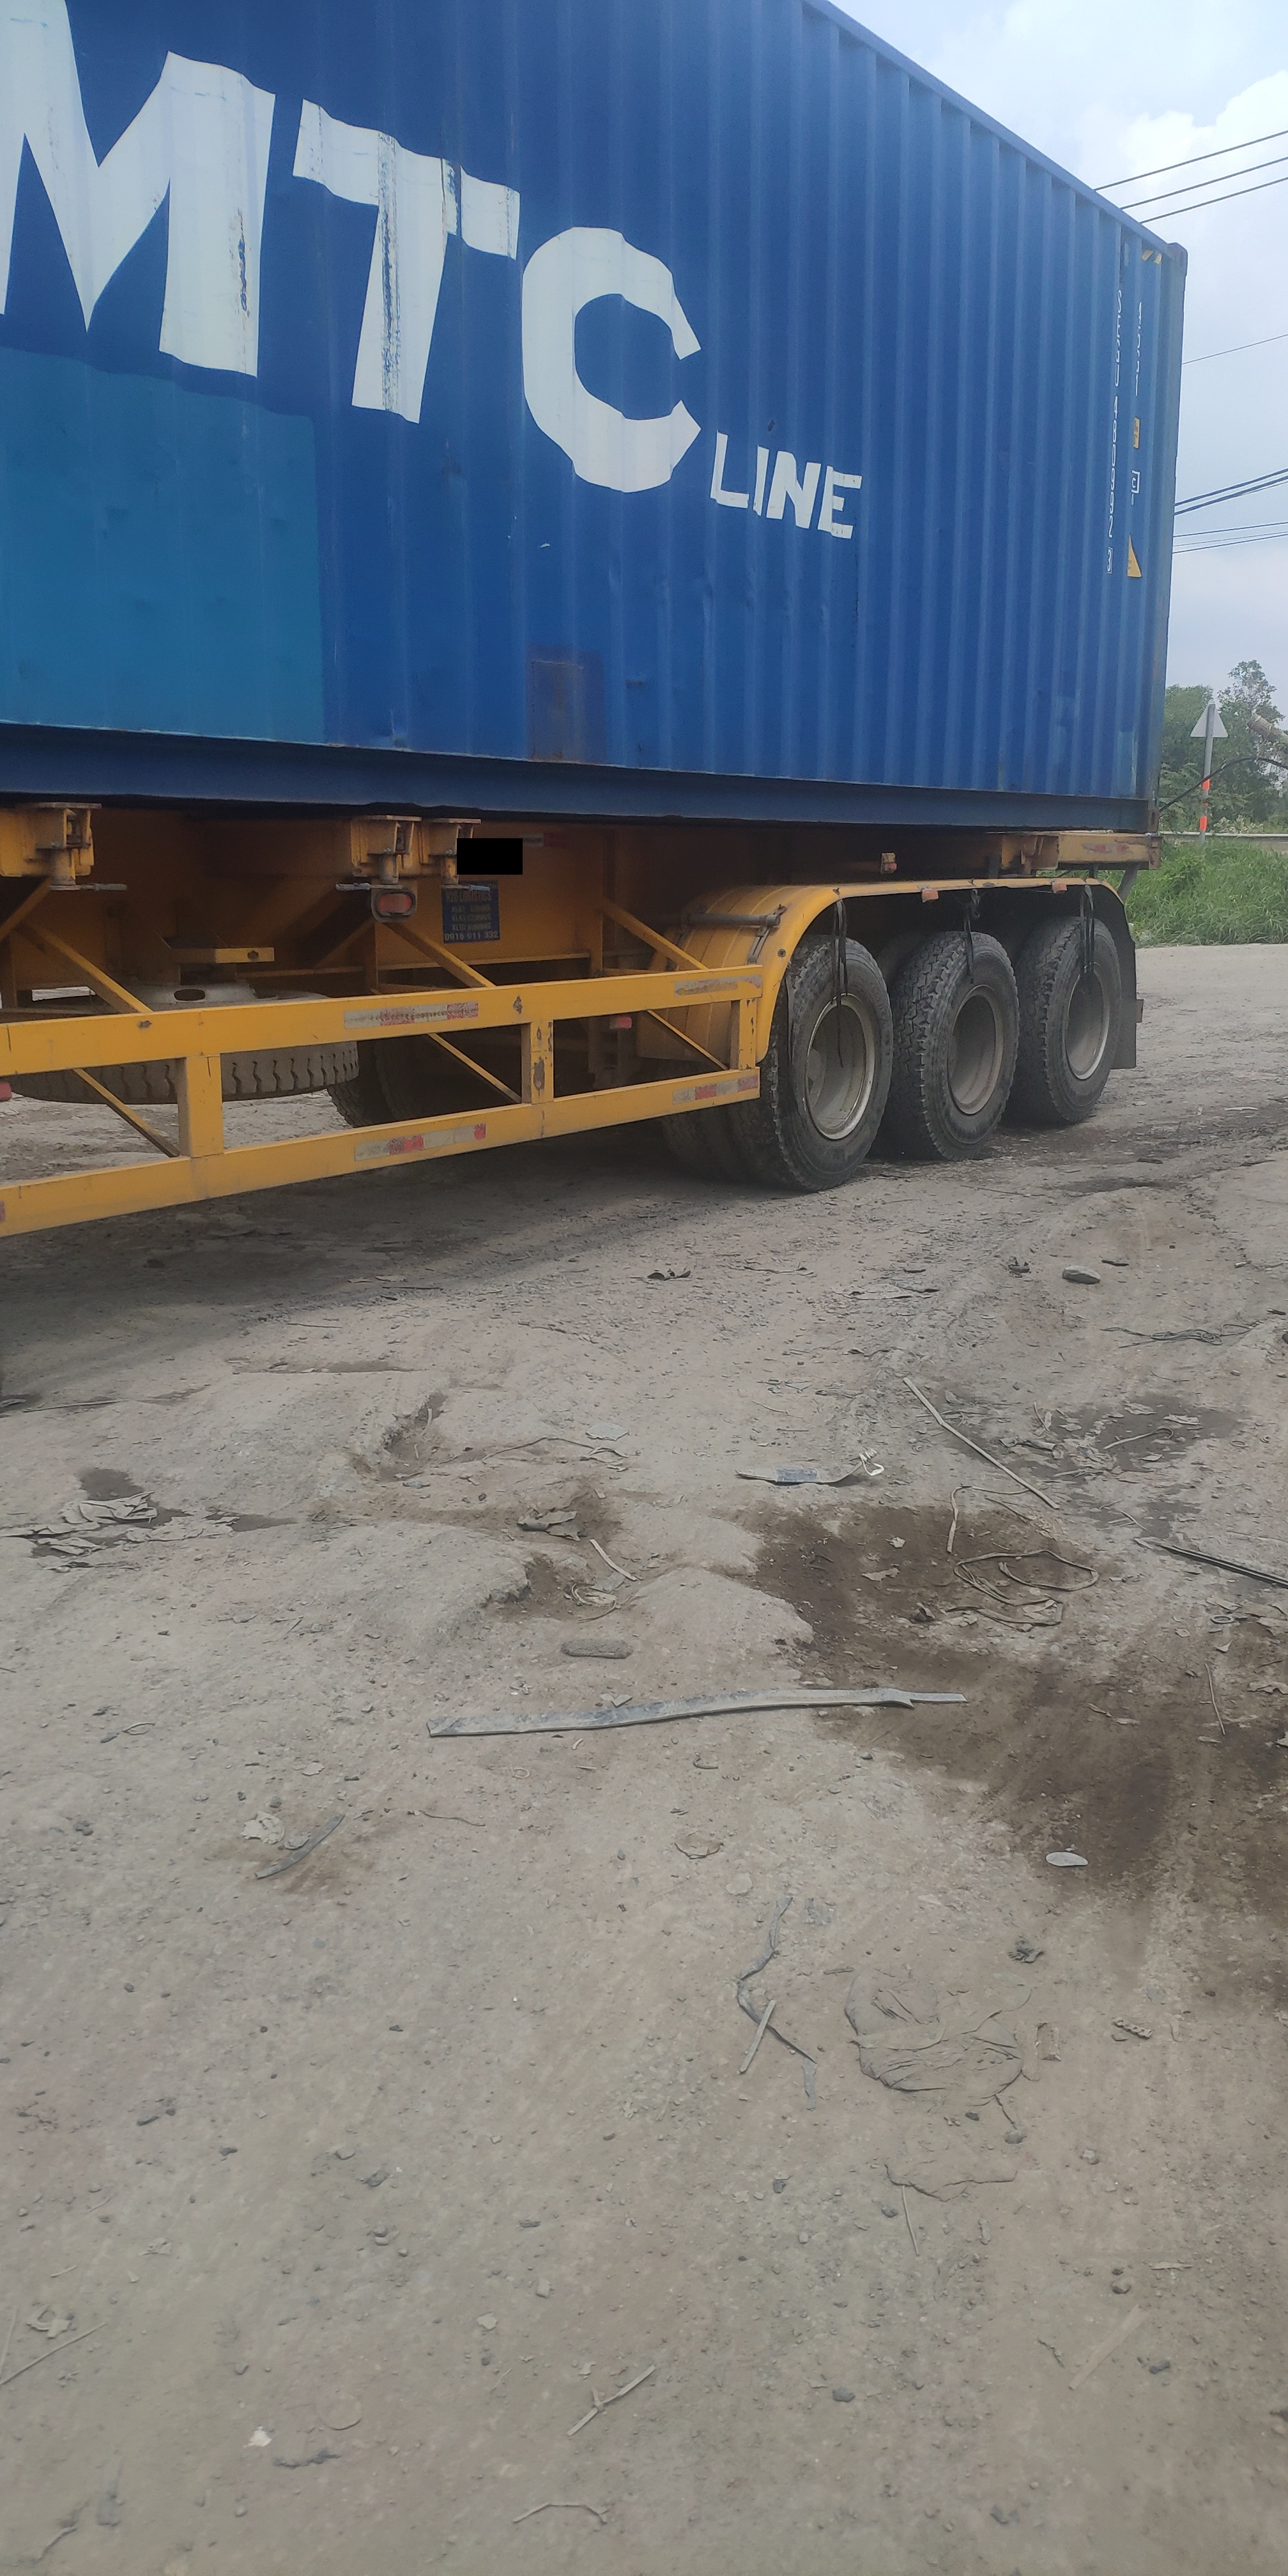hole: (711, 1480, 1112, 1690), (222, 1326, 514, 1503), (493, 1513, 698, 1644)
